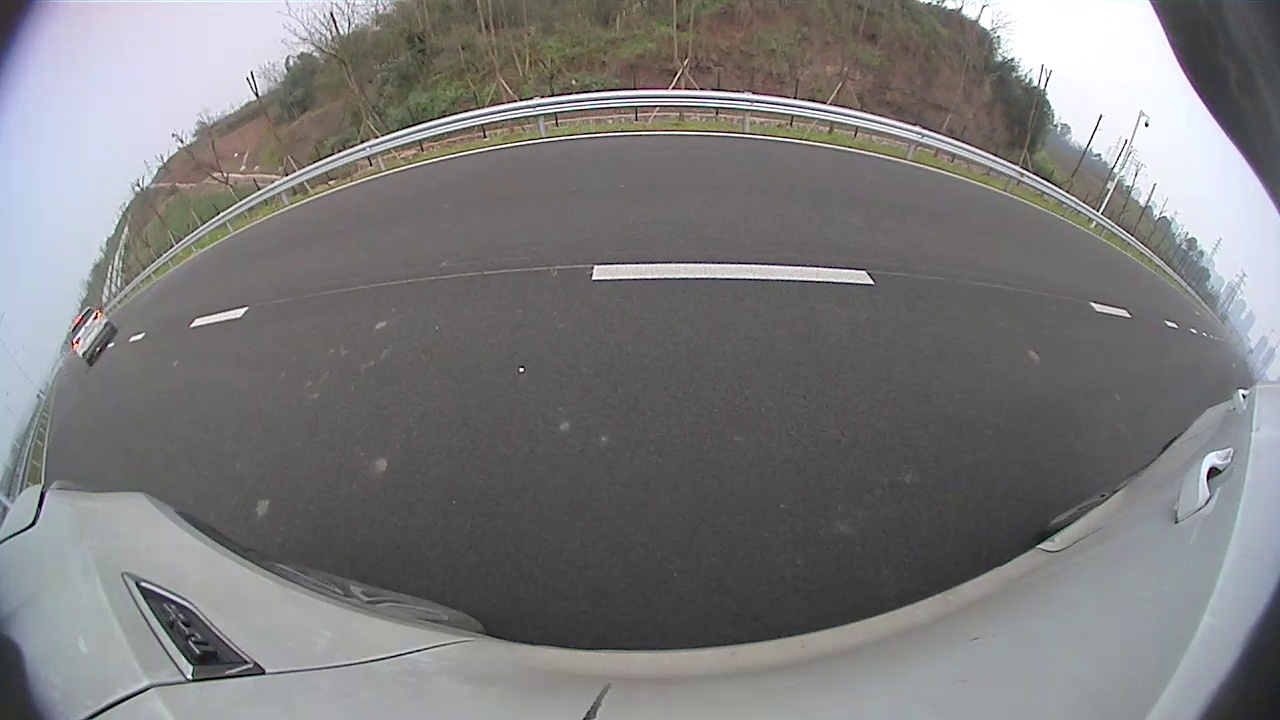car: (718, 150, 791, 197)
front: (717, 176, 726, 192)
rear: (733, 176, 743, 194)
